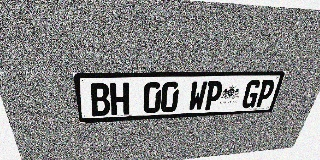0: (160, 82, 180, 113), (143, 82, 162, 114)
B: (89, 83, 111, 116)
G: (240, 80, 262, 108)
H: (110, 83, 129, 115)
P: (254, 80, 277, 108), (203, 81, 224, 110)
W: (187, 81, 208, 111)
